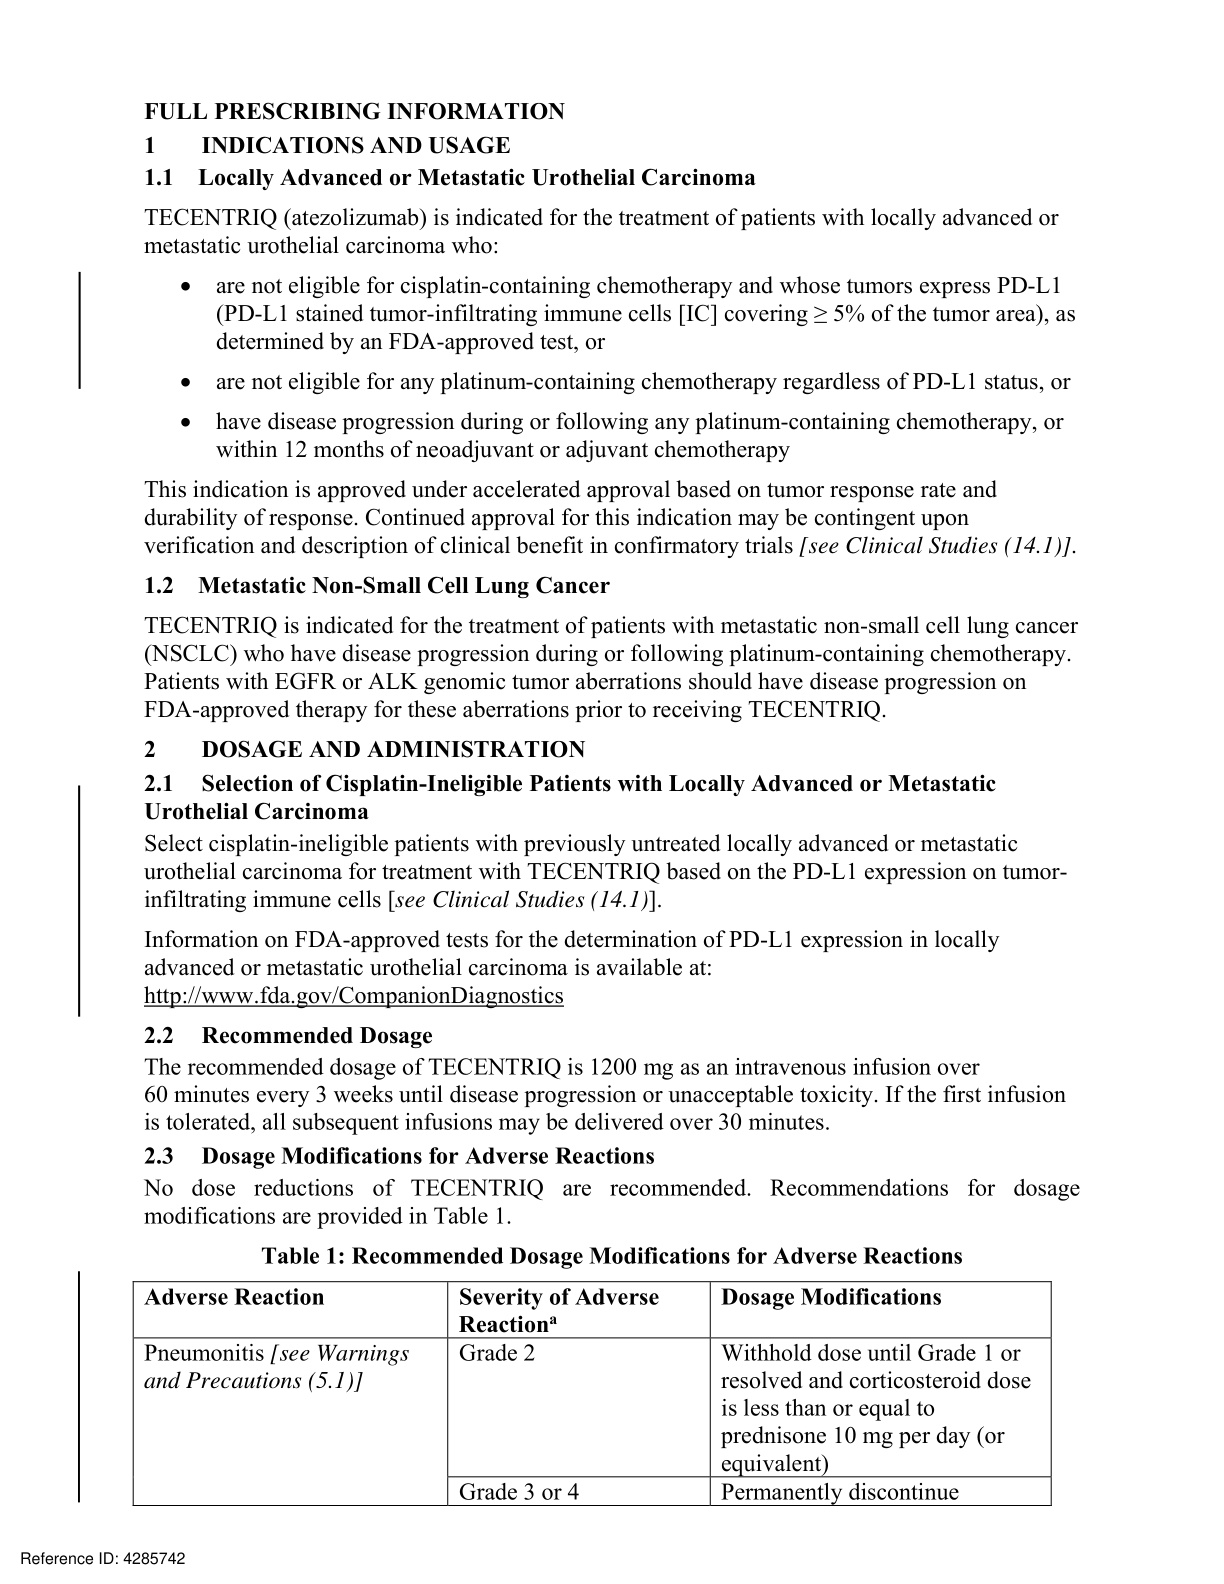merged_cells: (132, 1281, 1052, 1506)
